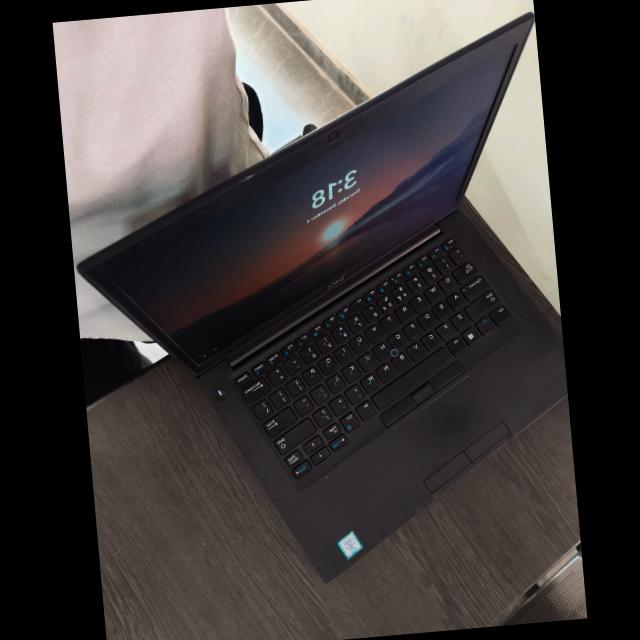laptop: (67, 5, 569, 588)
